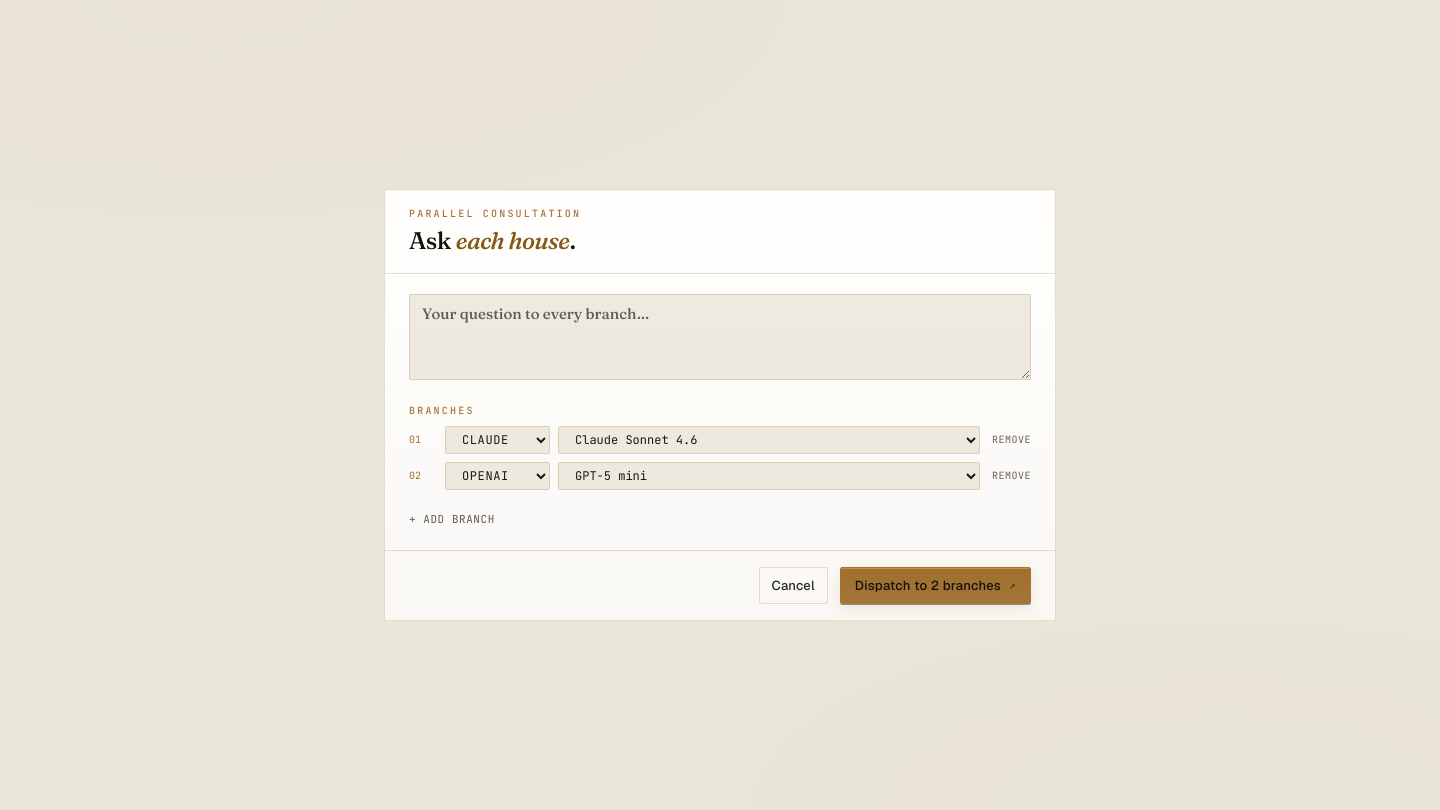
Test: CompareDialog › remove button visible with 2 branches, hidden when only 1 branch
Click the button "remove" in the row of "01": (1012, 440) x1=992 y1=432 x2=1031 y2=447
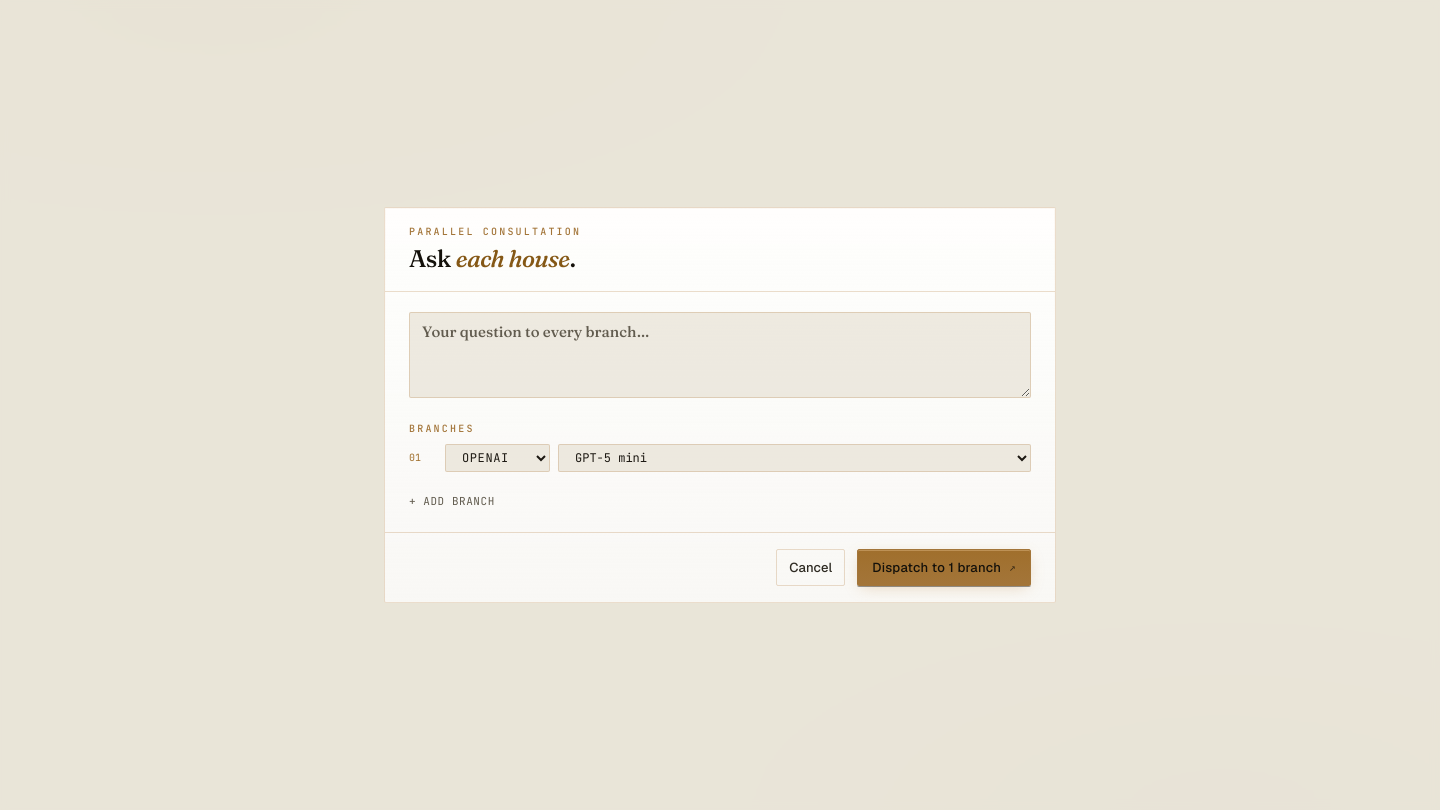
Now the button "remove" is gone
